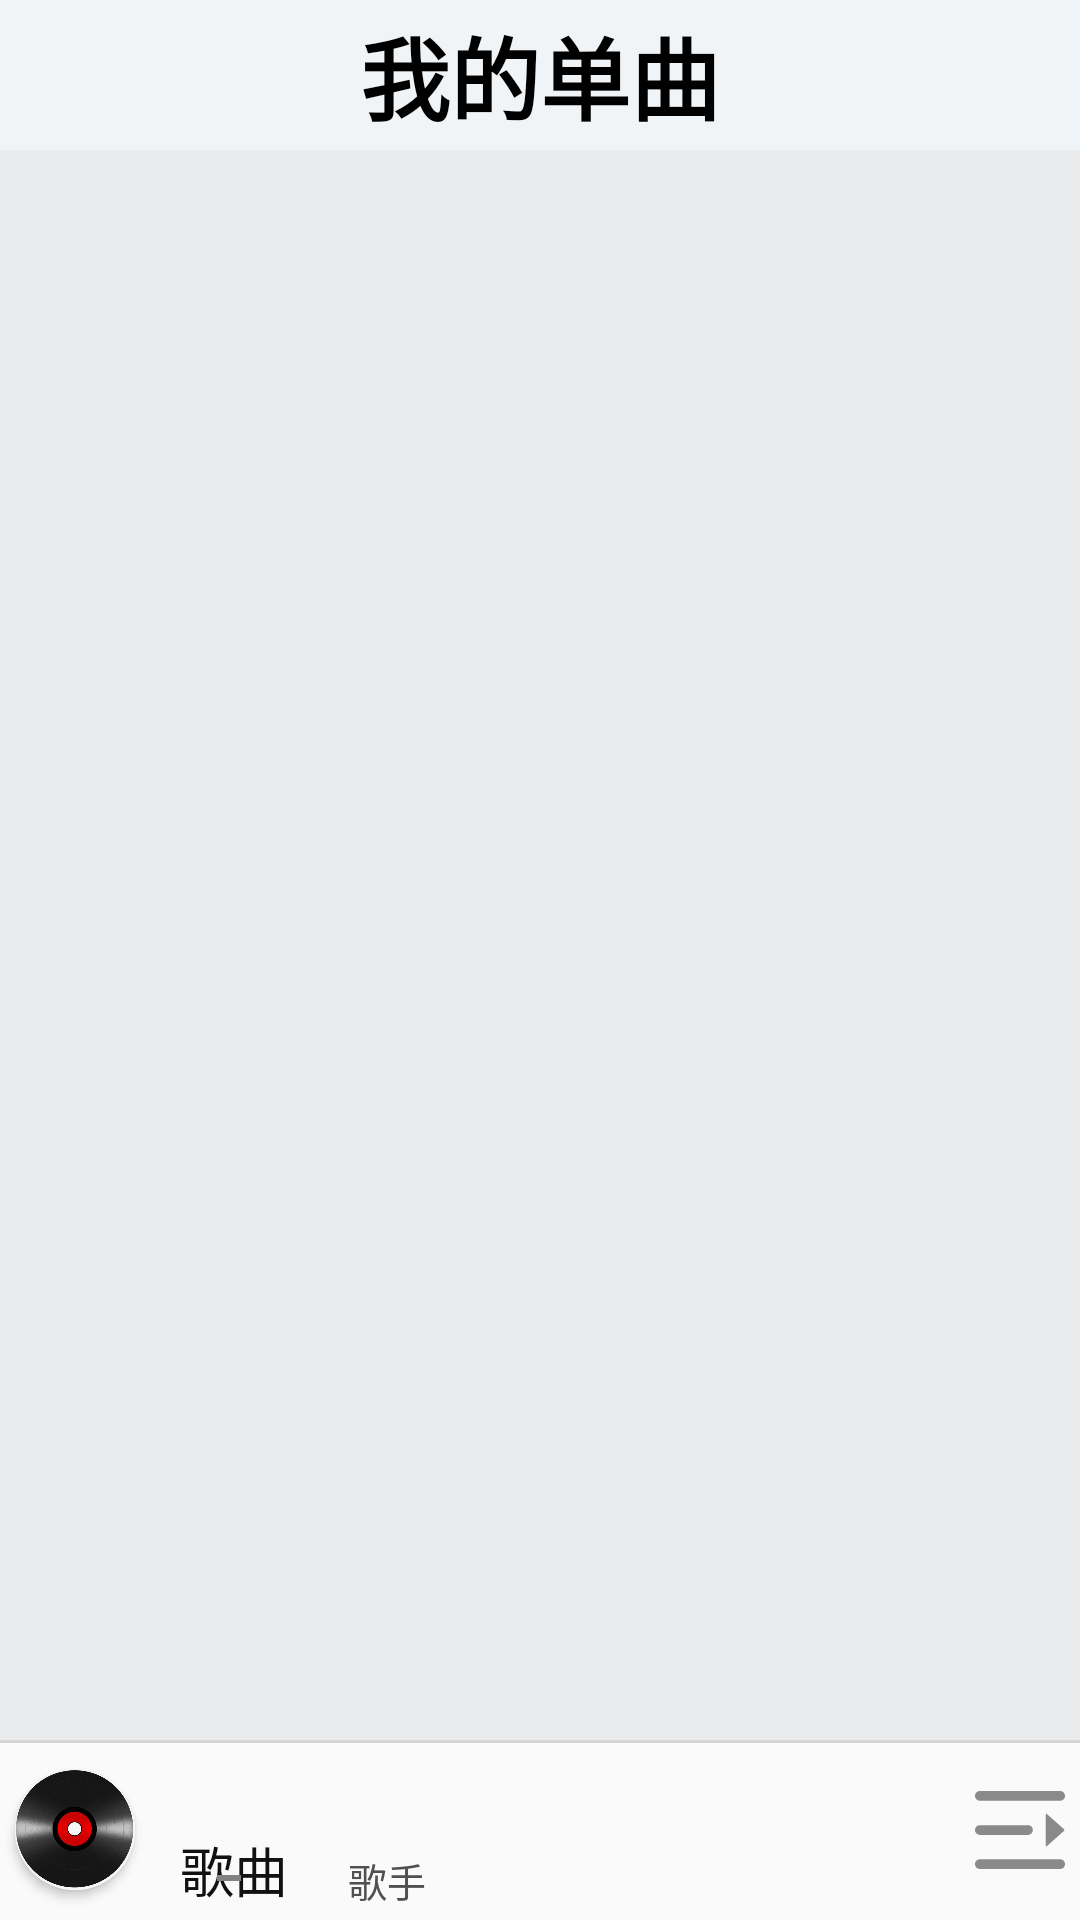

Icons on this 1080px×1920px Android screen, each with the point to tap as [x,y]:
list: [1020,1830]
